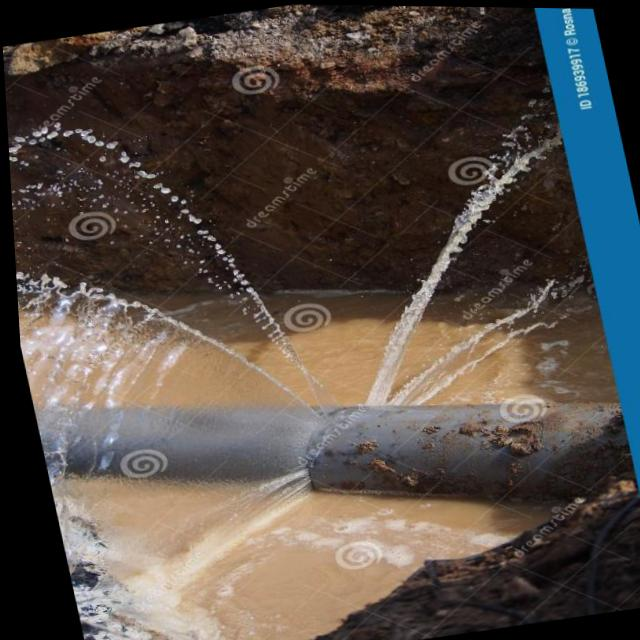leak: (35, 276, 479, 425), (76, 465, 309, 602), (531, 294, 611, 400), (438, 332, 543, 402)
